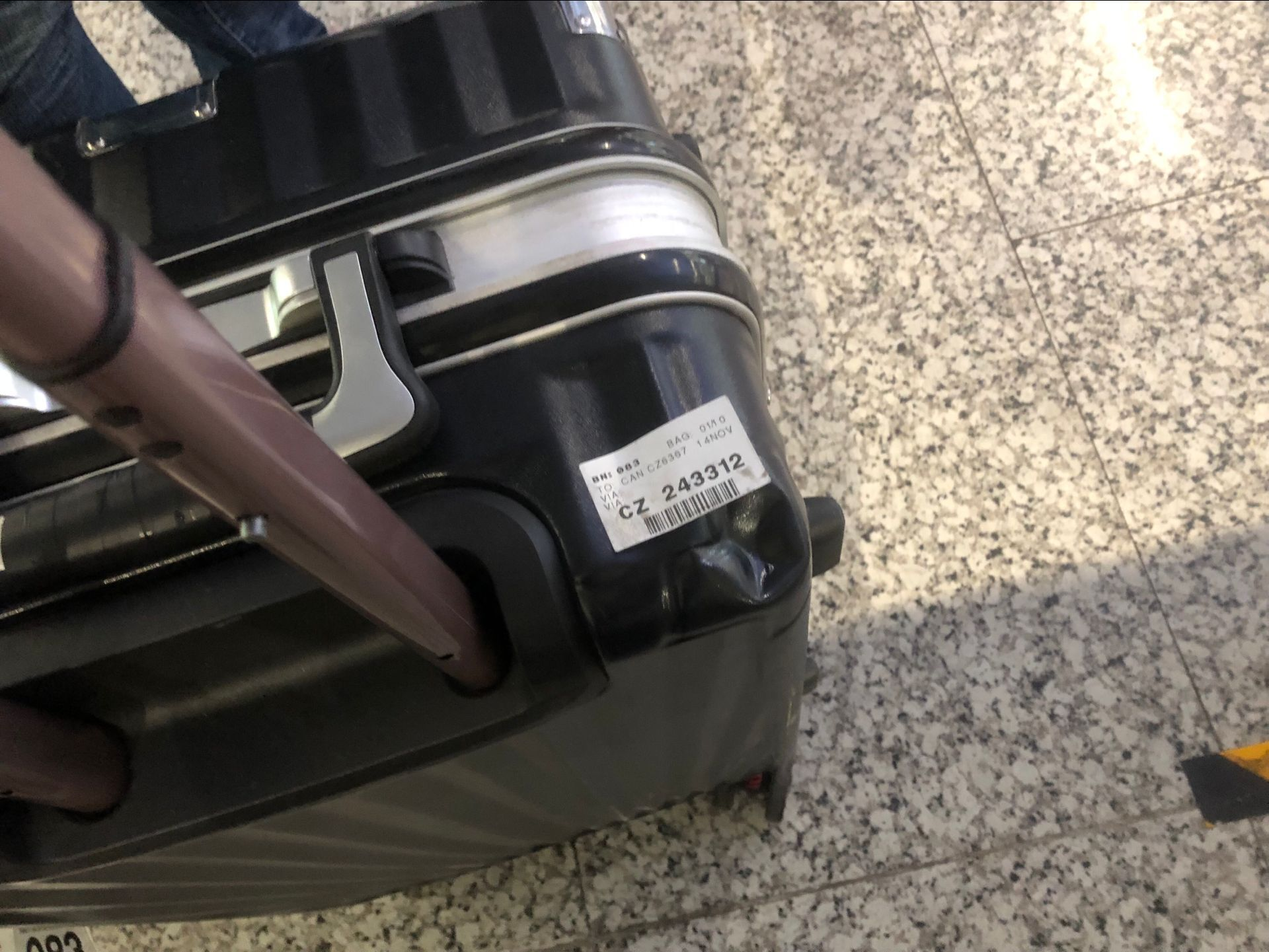rupture: (694, 483, 806, 603)
